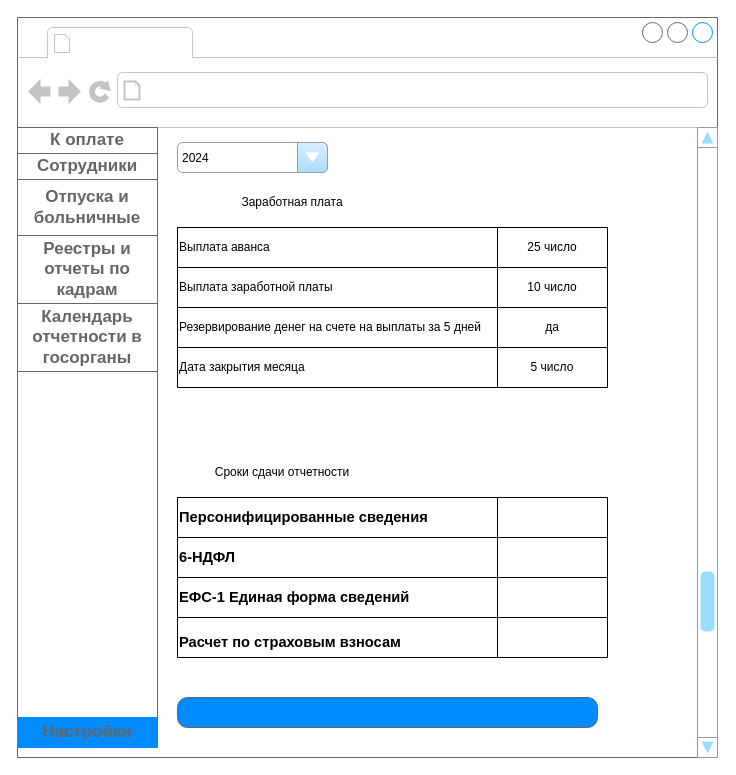
Image size: 736x775. Some labels were removed from this diagram. Here are the shapes that lost their labels. From the top down, the centre of each, then its label:
At point (132, 42): "Page 1".
At point (272, 90): "https://www.namesite.ru".
At point (387, 712): "Справочник подразделений и должностей".
